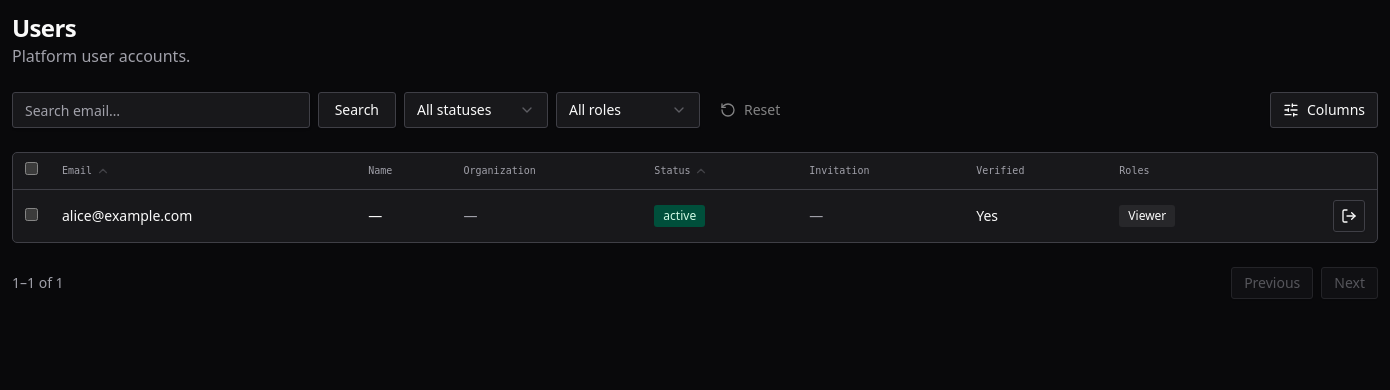
Test: UsersListPage — bulk admin actions › offers only Force logout with users:manage_sessions alone
Check: the text "alice@example.com" is shown, box [62,206,192,224]
Click the checkbox named "Select all rows" at (32, 169), box [25,162,38,175]
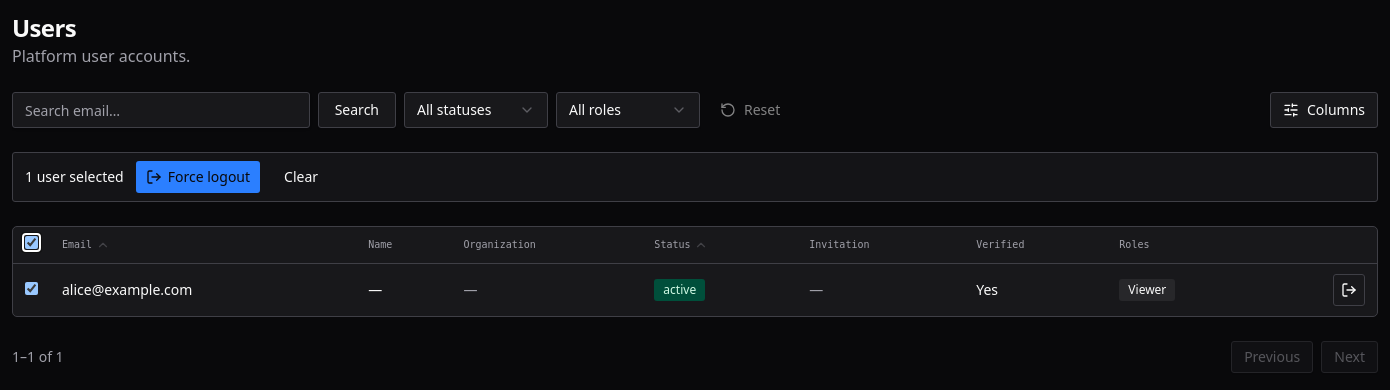
Check: the button "Force logout" is shown, box [136,161,260,193]
